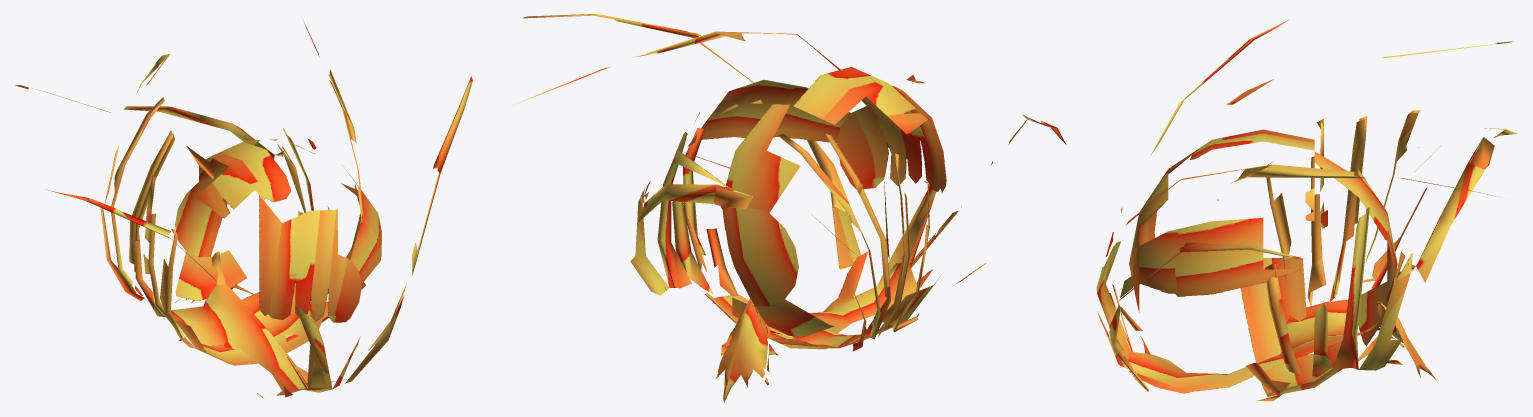
Rendered from RelicBall Bromodadali.fbx.
The picture shows the model from 3 angles, left to right: view 1: azimuth 30°, elevation 25°; view 2: azimuth 150°, elevation 25°; view 3: azimuth 270°, elevation 25°; orthographic projection. The views are drawn at different scales.
Parts seen in each view (by area): view 1: Relic bromodadali; view 2: Relic bromodadali; view 3: Relic bromodadali.
Boxes of the visible parts, x1,y1,x2,y2 form: Relic bromodadali: [15, 18, 472, 398]; Relic bromodadali: [515, 14, 1066, 402]; Relic bromodadali: [1096, 19, 1517, 401].
Bounding box in the file's own units: 70.8 × 38.3 × 51.57.
